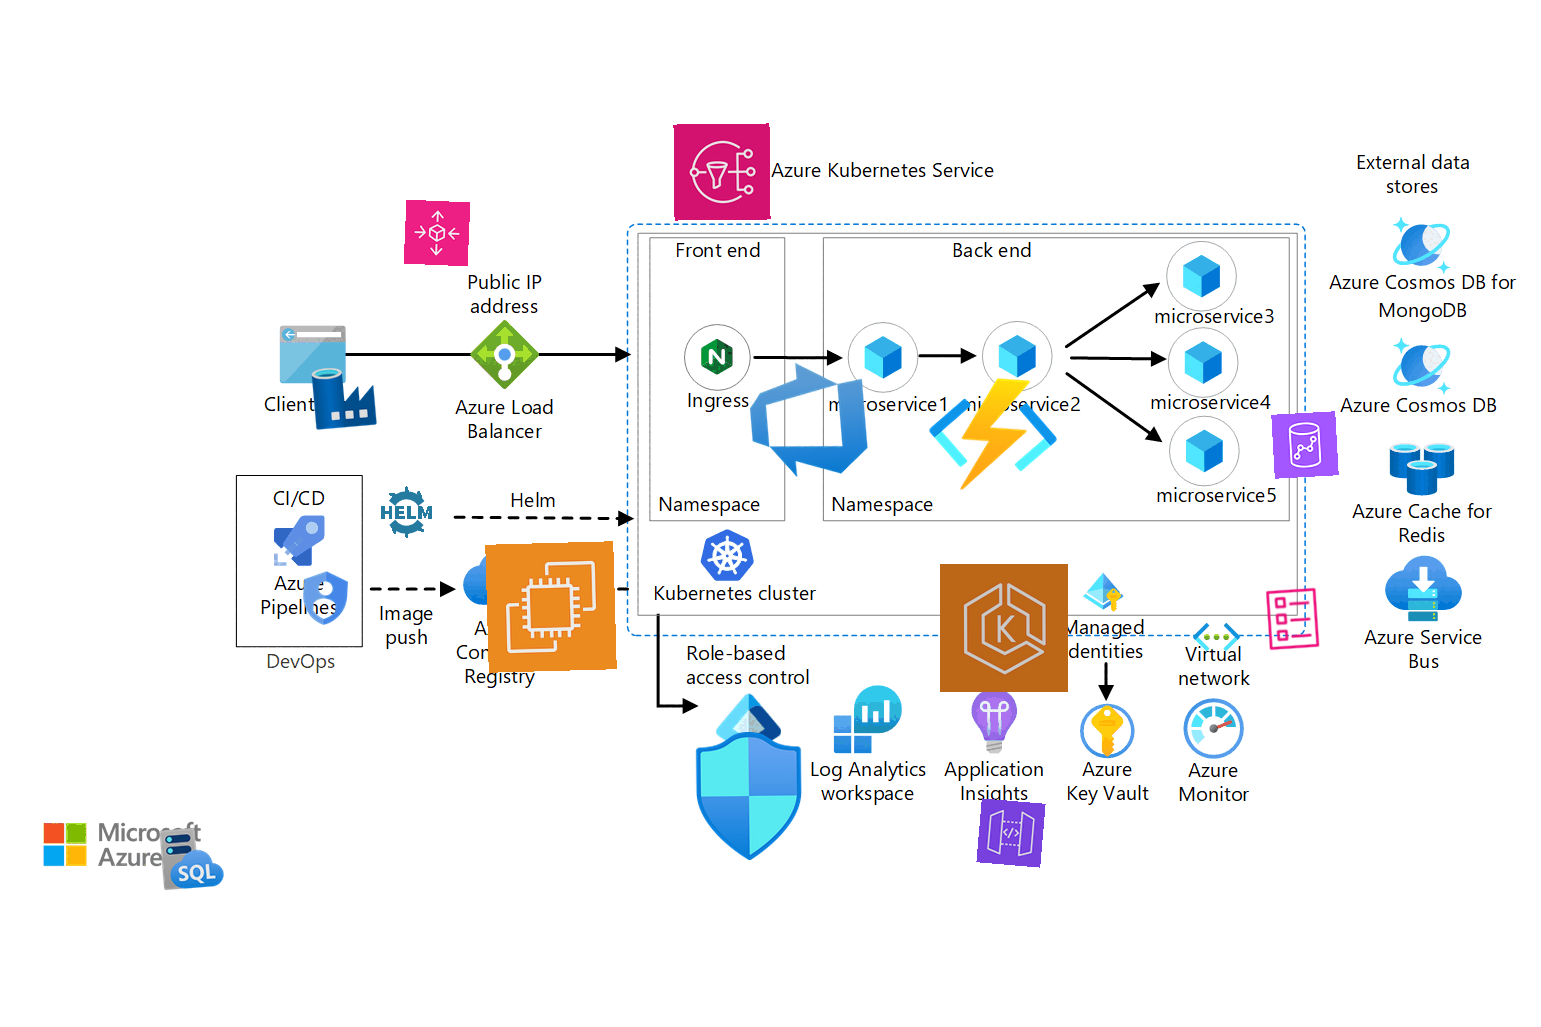aws_amazon_api_gateway: (976, 798, 1046, 868)
aws_amazon_ec2: (485, 541, 618, 673)
aws_amazon_elastic_kubernetes_service: (939, 563, 1069, 693)
aws_amazon_redshift: (1271, 411, 1339, 479)
aws_amazon_simple_notification_service: (673, 123, 771, 221)
aws_auto_scaling: (403, 199, 471, 267)
aws_cloudformation_template: (1257, 585, 1327, 654)
azure_data_factories: (309, 362, 379, 432)
azure_devops: (738, 348, 878, 489)
azure_function_apps: (923, 366, 1062, 504)
azure_network_security_groups: (684, 731, 813, 861)
azure_sql_managed_instance: (157, 823, 227, 893)
gcp_identity_and_access_management: (291, 564, 359, 632)
